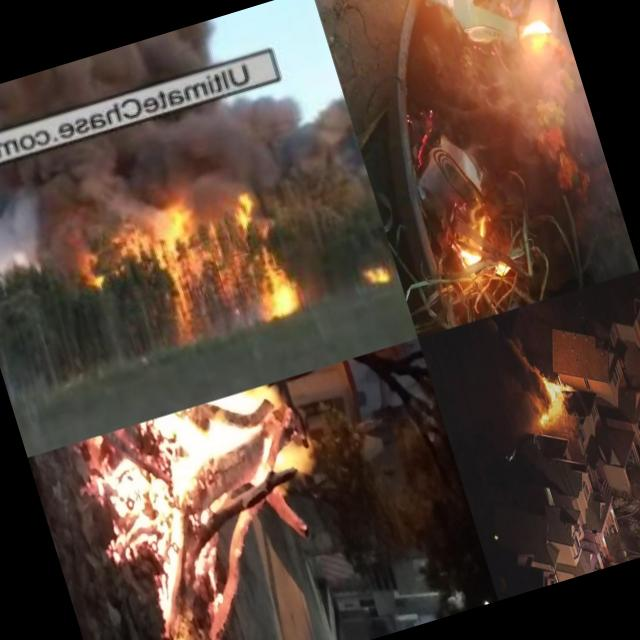fire: (162, 350, 456, 640), (76, 172, 302, 368), (532, 162, 640, 292), (351, 250, 398, 302), (540, 368, 568, 402), (534, 406, 551, 426)
smoke: (154, 66, 360, 226), (0, 144, 98, 287), (67, 119, 176, 225), (494, 334, 552, 418)
